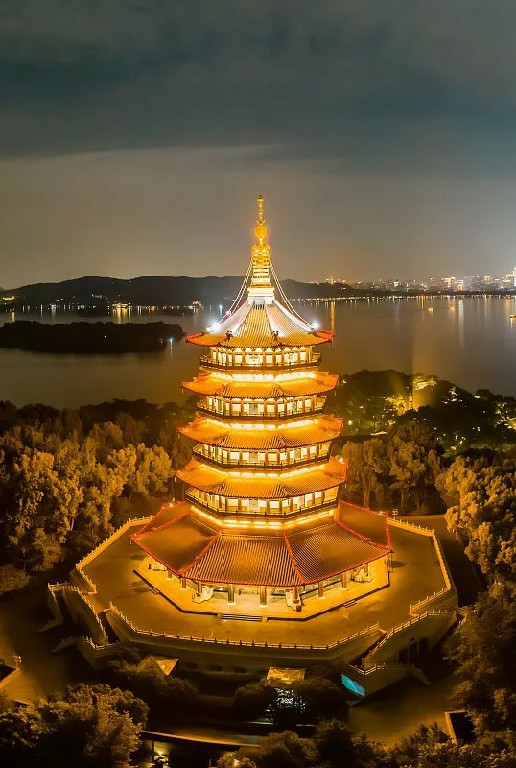Leifeng: (132, 193, 395, 620)
